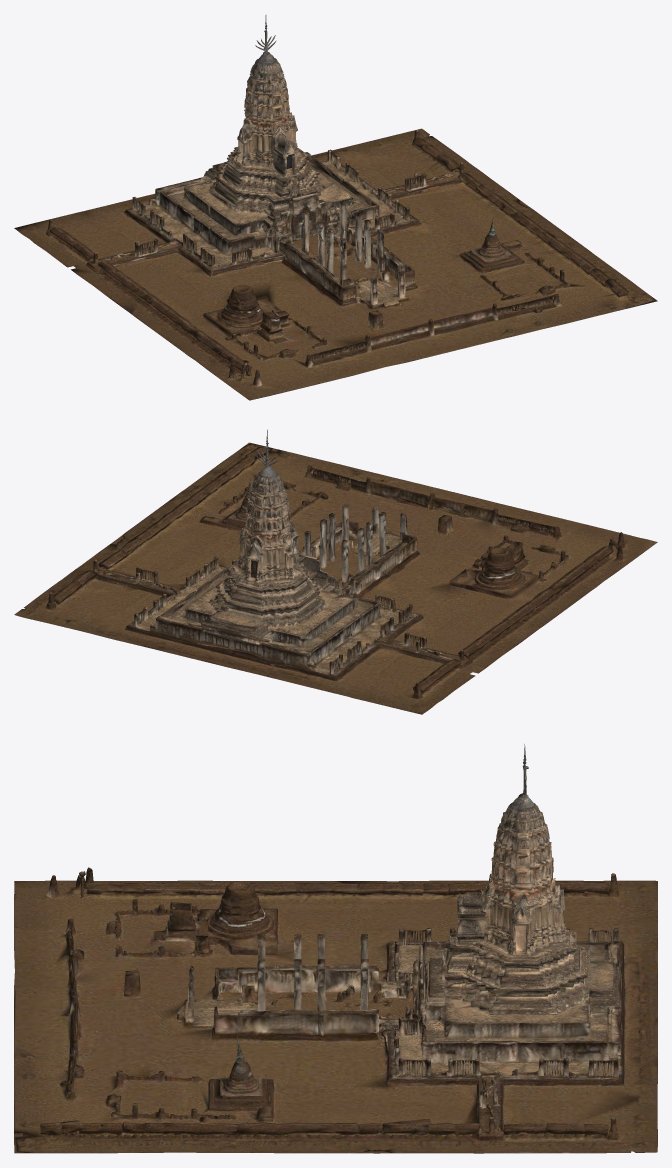
File: mahathat.ar.glb
3 views of the same model, one above another, from view 1: azimuth 30°, elevation 25°; view 2: azimuth 150°, elevation 25°; view 3: azimuth 270°, elevation 25° (orthographic). The views are drawn at different scales.
Bounding box in the file's own units: 0.4 × 0.1877 × 0.3996.
Materials: 1 (1 with a texture image).
